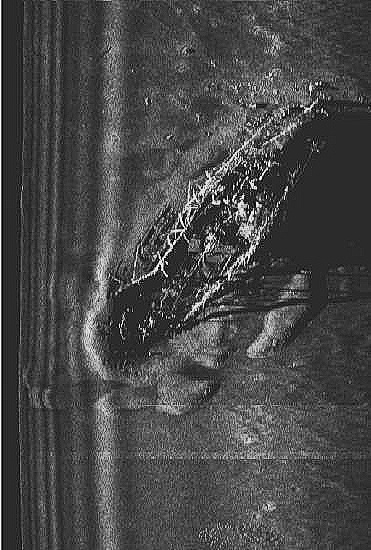ship: (102, 98, 325, 350)
